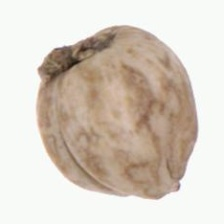L1: (37, 32, 110, 77)
L2: (35, 25, 199, 201)
